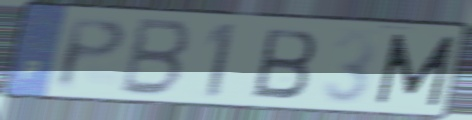1: (203, 20, 238, 102)
3: (322, 28, 381, 106)
B: (115, 15, 196, 100), (250, 25, 321, 102)
M: (373, 31, 458, 108)
P: (54, 16, 131, 93)
